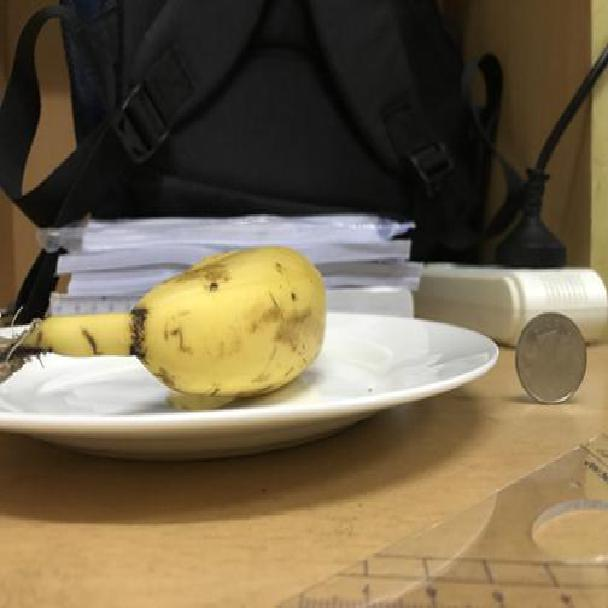banana: (19, 246, 345, 404)
